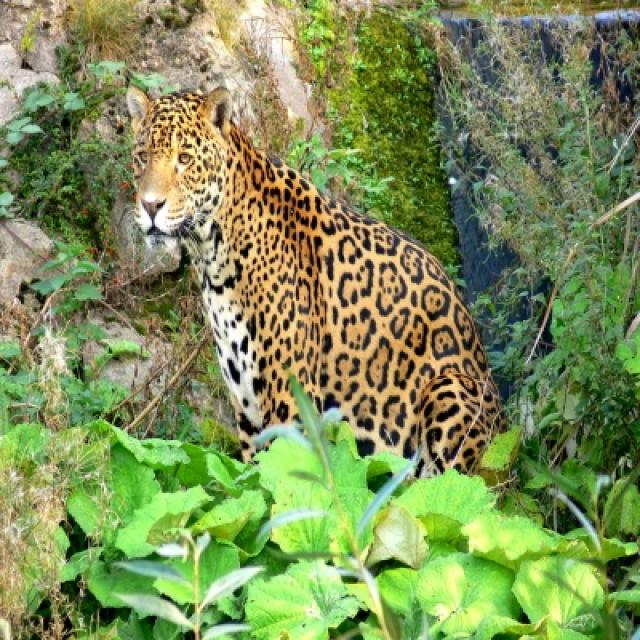Jaguar: (128, 88, 510, 480)
